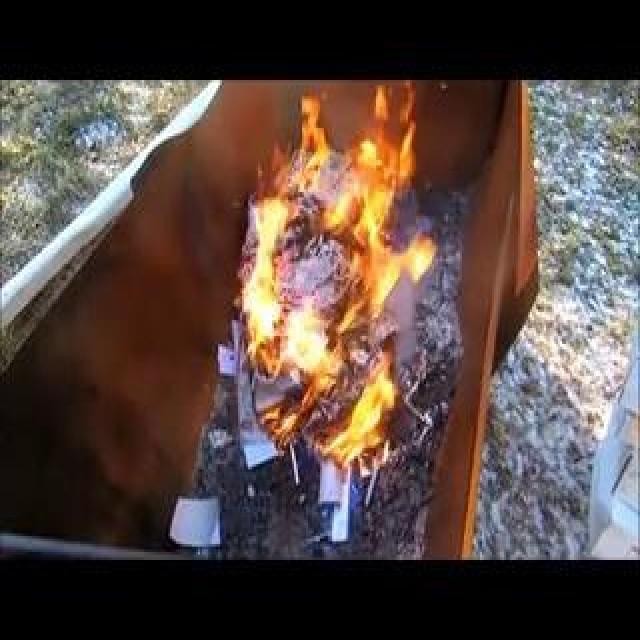Fire: (228, 274, 341, 392)
